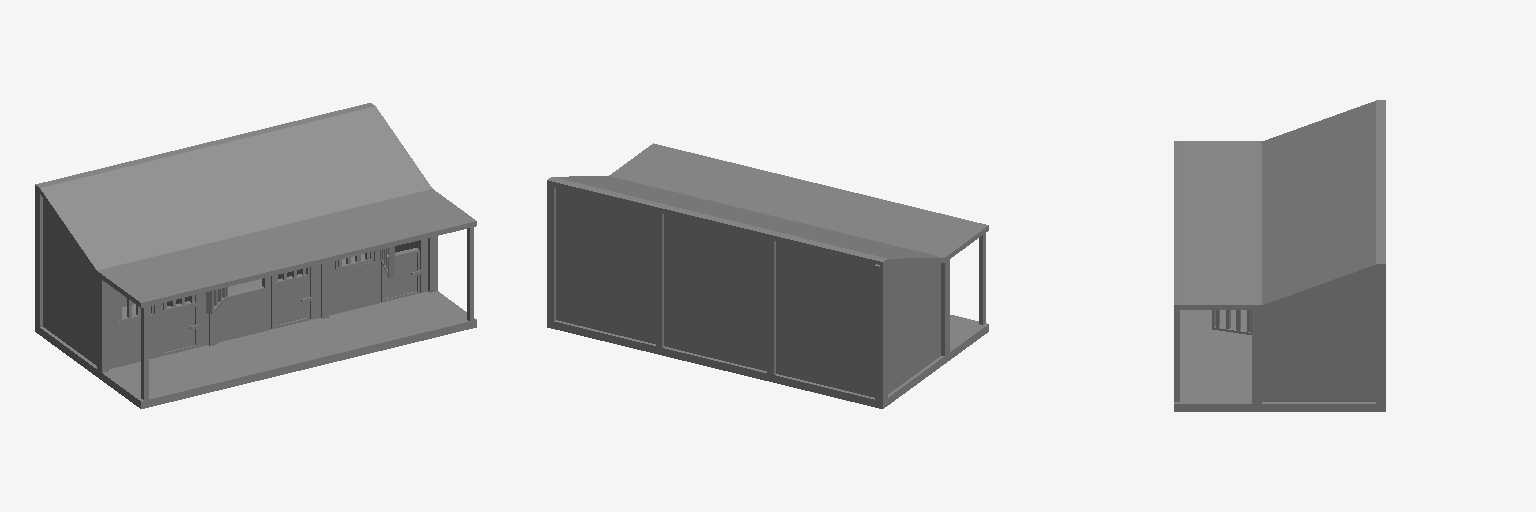
File: stable.obj
3 views of the same model, side by side, from view 1: azimuth 30°, elevation 25°; view 2: azimuth 150°, elevation 25°; view 3: azimuth 270°, elevation 25° (orthographic).
Visible parts, largest first — view 1: Stable.001; view 2: Stable.001; view 3: Stable.001.
Part boxes in pixels (x1,y1,x2,y2): Stable.001: (35,103,476,408); Stable.001: (547,143,988,408); Stable.001: (1174,100,1385,411).
Size of the model in its own units: 20.27 by 8.48 by 11.1.